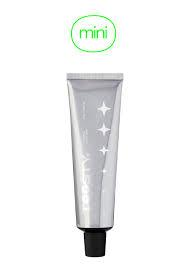toothpaste: (61, 66, 128, 260)
